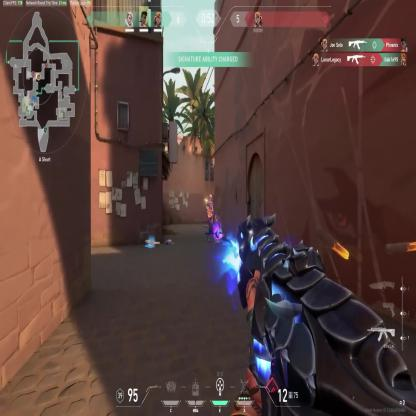enemy: (205, 195, 216, 240)
enemy_head: (209, 195, 212, 202)
